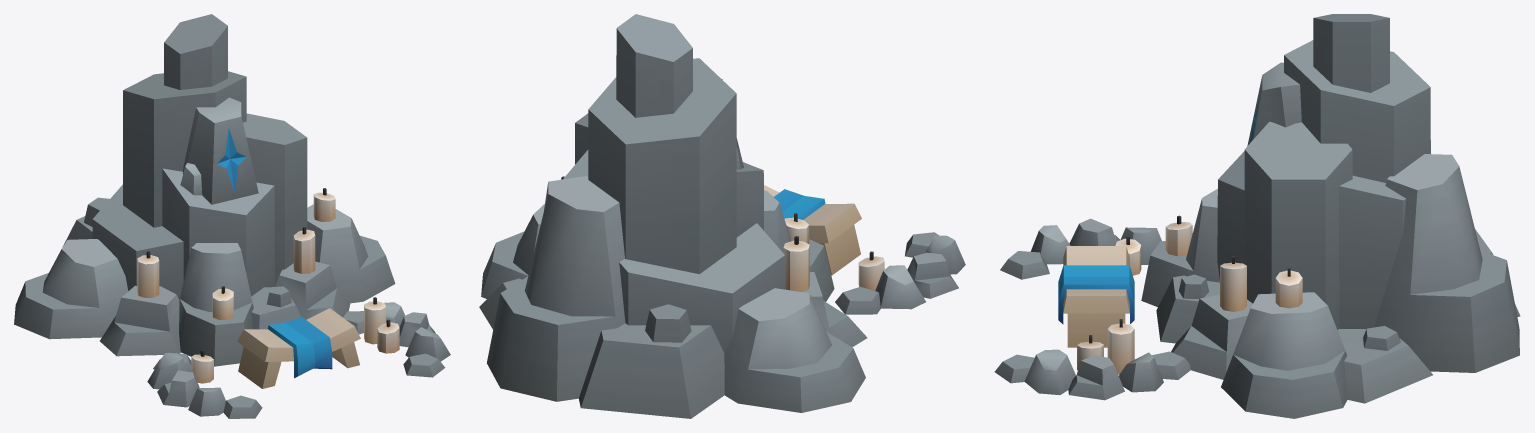
File: building_shrine_blue.glb
3 views of the same model, side by side, from view 1: azimuth 30°, elevation 25°; view 2: azimuth 150°, elevation 25°; view 3: azimuth 270°, elevation 25° (orthographic). The views are drawn at different scales.
Visible parts, largest first — view 1: building_shrine_blue; view 2: building_shrine_blue; view 3: building_shrine_blue.
Part boxes in pixels (x1,y1,x2,y2): building_shrine_blue: (14,14,450,418); building_shrine_blue: (479,14,965,418); building_shrine_blue: (994,14,1520,418).
Bounding box in the file's own units: 1.15 × 0.8533 × 1.3.
Materials: 1 (1 with a texture image).
